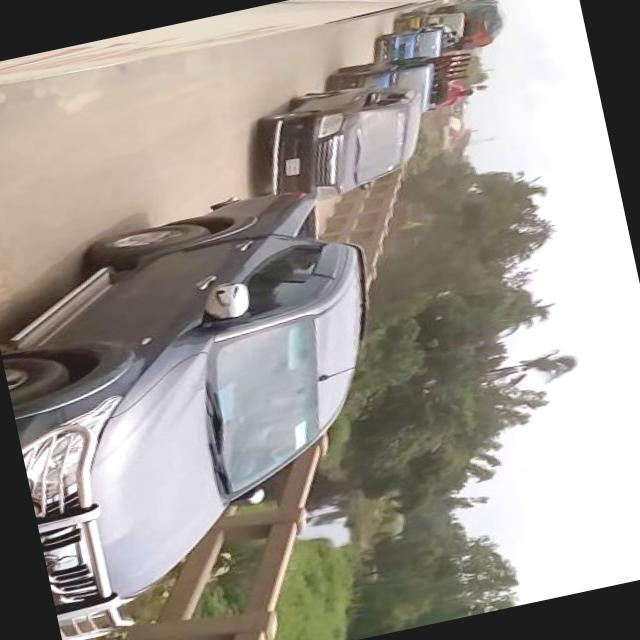bus: (0, 0, 574, 111), (392, 0, 513, 62)
car: (239, 64, 442, 214)
truck: (0, 169, 435, 640), (326, 39, 482, 130), (375, 19, 455, 70)
